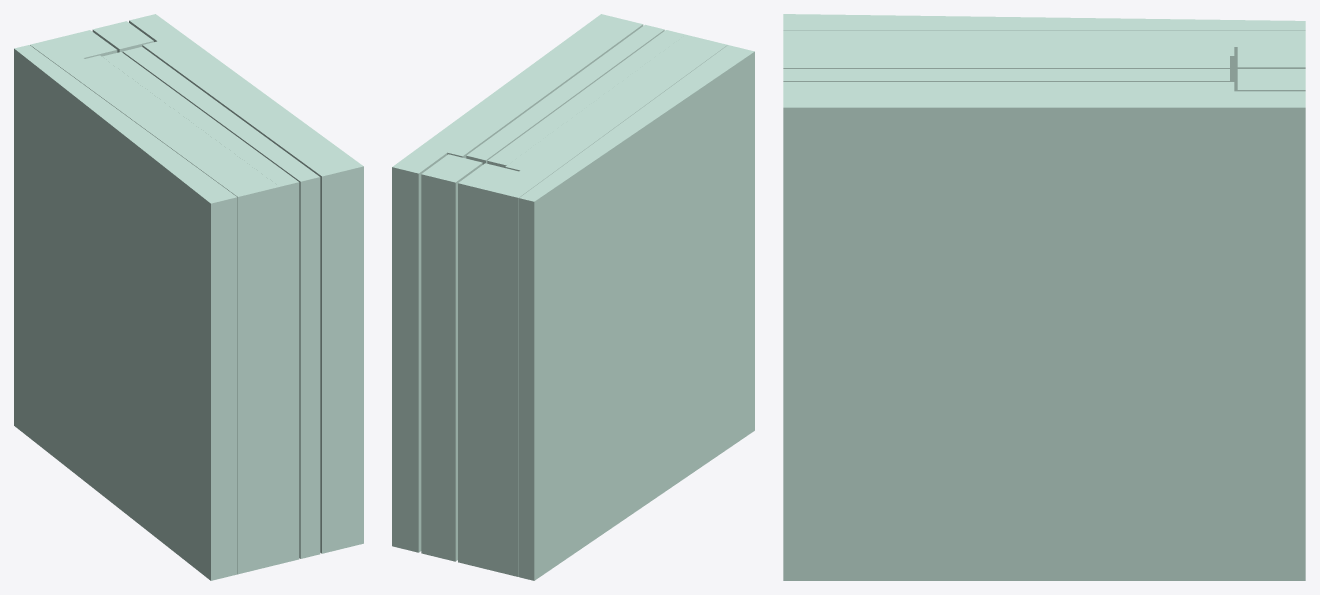
3 views of the same model, side by side, from view 1: azimuth 30°, elevation 25°; view 2: azimuth 150°, elevation 25°; view 3: azimuth 270°, elevation 25° (orthographic). The views are drawn at different scales.
Visible parts, largest first — view 1: Renderer Node; view 2: Renderer Node; view 3: Renderer Node.
Boxes of the visible parts, <box> form: Renderer Node: <box>14,14,363,580</box>; Renderer Node: <box>392,14,754,580</box>; Renderer Node: <box>783,14,1305,580</box>.
Bounding box in the file's own units: 0.2286 × 0.5391 × 0.5391.
